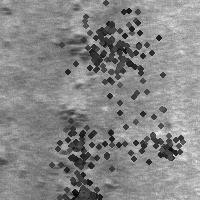rolled-in_scale: (86, 78, 198, 190), (66, 10, 168, 112), (55, 0, 163, 95), (33, 103, 109, 199), (37, 106, 117, 186), (48, 17, 99, 91), (141, 124, 187, 170), (58, 170, 106, 200)
